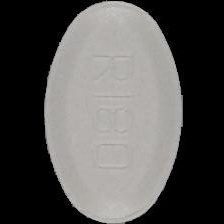54868-4939: (0, 0, 224, 224)
